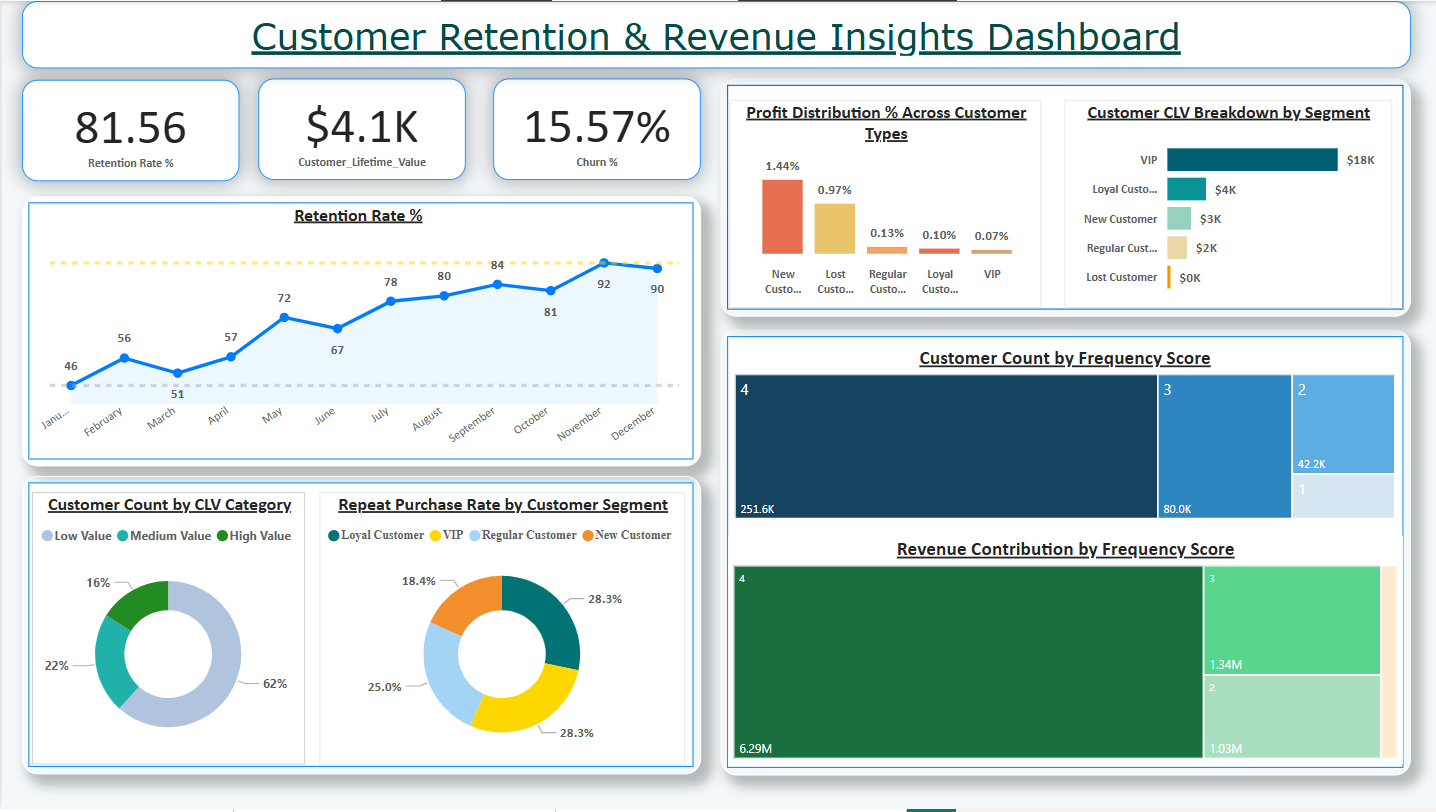

The page's visual inventory and layout, read from the dashboard file:
{"tool":"powerbi","page":{"name":"Customer Retention Insights Dashboard","canvas":[1280,720],"ordinal":1},"visuals":[{"type":"shape","box":[17.8,173.3,604.4,241.1],"z":0},{"type":"shape","box":[17.8,423.3,604.4,265.6],"z":1000},{"type":"shape","box":[640,292.2,614.4,396.7],"z":2000},{"type":"shape","box":[640,68.9,614.4,212.2],"z":3000},{"type":"treemap","title":"Customer Count by Frequency Score","fields":{"Group":["public rfm_scores.r_score","public rfm_scores.f_score"],"Values":["CountNonNull(public customer_transactions.customerid)"]},"box":[647.8,306.7,597.8,160],"z":4000},{"type":"treemap","title":"Revenue Contribution by Frequency Score","fields":{"Group":["public rfm_scores.r_score","public rfm_scores.f_score"],"Values":["Sum(public customer_transactions.total_price)"]},"box":[646.7,476.7,601.1,203.3],"z":5000},{"type":"card","fields":{"Values":["Key Measures.Customer_Lifetime_Value"]},"box":[227.8,68.9,184.4,90],"z":6000},{"type":"clusteredBarChart","title":"Customer CLV Breakdown by Segment","fields":{"Y":["Key Measures.Customer_Lifetime_Value"],"Category":["public rfm_scores.customer_segment"]},"box":[946.7,87.8,291.1,185.6],"z":7000},{"type":"donutChart","title":"Customer Count by CLV Category","fields":{"Category":["public rfm_scores.CLV_Category"],"Y":["CountNonNull(public rfm_scores.customerid)"]},"box":[26.7,437.8,243.3,242.2],"z":8000},{"type":"card","fields":{"Values":["Key Measures.Churn %"]},"box":[437.8,68.9,184.4,90],"z":9000},{"type":"columnChart","title":"Profit Distribution % Across Customer Types","fields":{"Category":["public rfm_scores.customer_segment"],"Y":["Key Measures.Customer_Profitability"]},"box":[647.8,87.8,277.8,185.6],"z":10000},{"type":"card","title":"Retention Rate","fields":{"Values":["Key Measures.Retention Rate %"]},"box":[17.8,70,193.3,90],"z":11000},{"type":"lineChart","title":"Retention Rate %","fields":{"Y":["Key Measures.Retention Rate %"],"Category":["public rfm_scores.last_transaction_date.Variation.Date Hierarchy.Month"]},"box":[26.7,180,581.1,224.4],"z":12000},{"type":"donutChart","title":"Repeat Purchase Rate by Customer Segment","fields":{"Y":["Key Measures.Repeat Customer Rate"],"Category":["public rfm_scores.customer_segment"]},"box":[282.2,437.8,325.6,242.2],"z":16000},{"type":"textbox","box":[17.8,0,1236.7,60],"z":17000}]}

Visuals, with their boxes in screenshot pixels (x1, y1, x2, y2), scaled from the page's 1280x720 canvas onto the 1436x812 screenshot:
shape: (x1=20, y1=195, x2=698, y2=467)
shape: (x1=20, y1=477, x2=698, y2=777)
shape: (x1=718, y1=330, x2=1407, y2=777)
shape: (x1=718, y1=78, x2=1407, y2=317)
"Customer Count by Frequency Score" treemap: (x1=727, y1=346, x2=1397, y2=526)
"Revenue Contribution by Frequency Score" treemap: (x1=726, y1=538, x2=1400, y2=767)
card - Key Measures.Customer_Lifetime_Value: (x1=256, y1=78, x2=462, y2=179)
"Customer CLV Breakdown by Segment" clusteredBarChart: (x1=1062, y1=99, x2=1389, y2=308)
"Customer Count by CLV Category" donutChart: (x1=30, y1=494, x2=303, y2=767)
card - Key Measures.Churn %: (x1=491, y1=78, x2=698, y2=179)
"Profit Distribution % Across Customer Types" columnChart: (x1=727, y1=99, x2=1038, y2=308)
"Retention Rate" card: (x1=20, y1=79, x2=237, y2=180)
"Retention Rate %" lineChart: (x1=30, y1=203, x2=682, y2=456)
"Repeat Purchase Rate by Customer Segment" donutChart: (x1=317, y1=494, x2=682, y2=767)
textbox: (x1=20, y1=0, x2=1407, y2=68)
